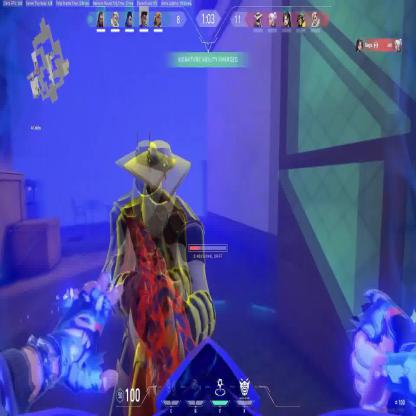enemy: (94, 132, 217, 416)
enemy_head: (139, 140, 178, 231)
